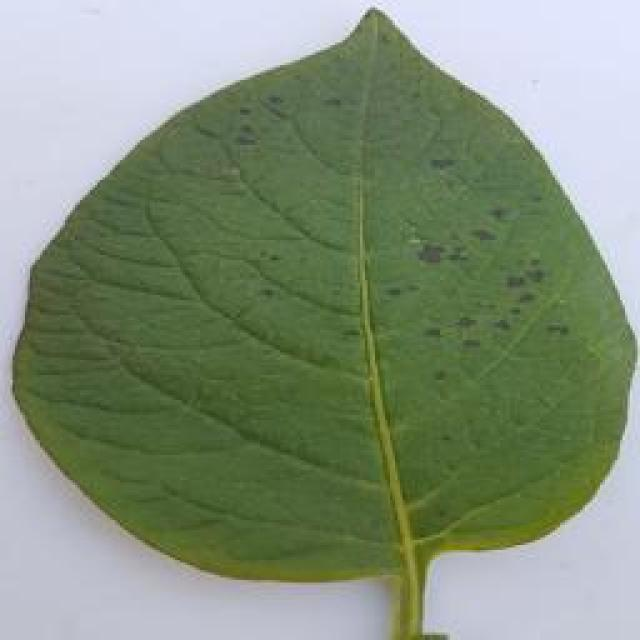Potato_Early_Blight: (20, 5, 640, 581)
